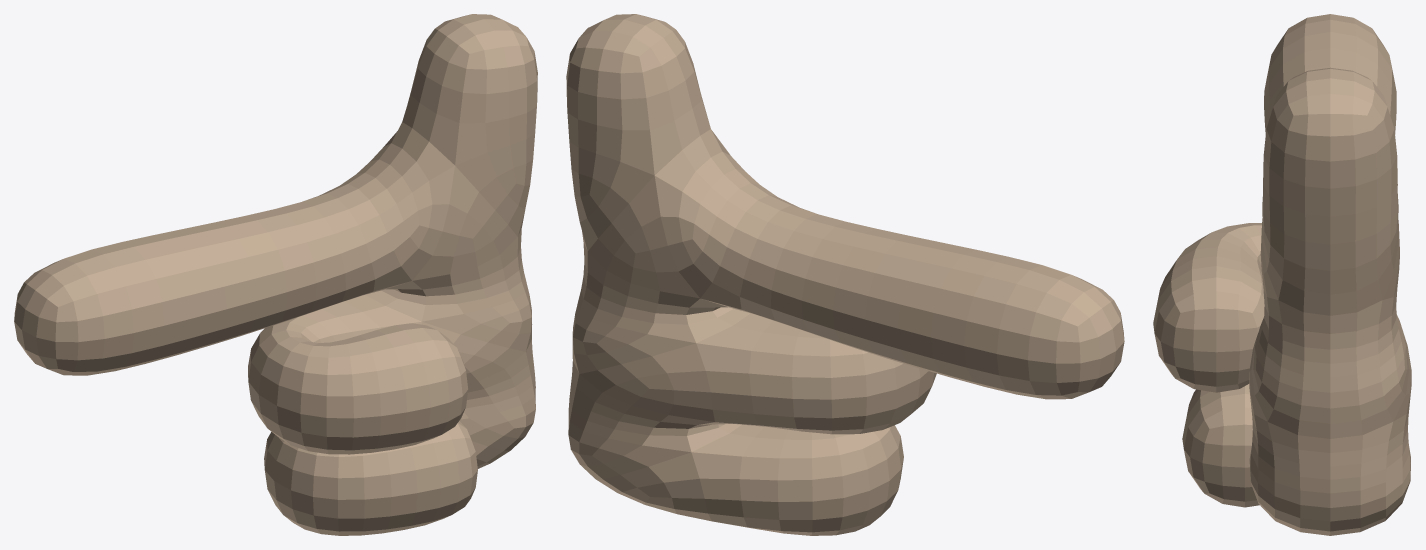
Rendered from Point_Hand.gltf.
The picture shows the model from 3 angles, left to right: view 1: azimuth 30°, elevation 25°; view 2: azimuth 150°, elevation 25°; view 3: azimuth 270°, elevation 25°; orthographic projection. The views are drawn at different scales.
Parts seen in each view (by area): view 1: Cube; view 2: Cube; view 3: Cube.
Boxes of the visible parts, x1,y1,x2,y2 form: Cube: [14, 14, 537, 535]; Cube: [566, 14, 1124, 535]; Cube: [1153, 14, 1411, 535].
Size of the model in its own units: 2.2 by 1.85 by 0.9079.
